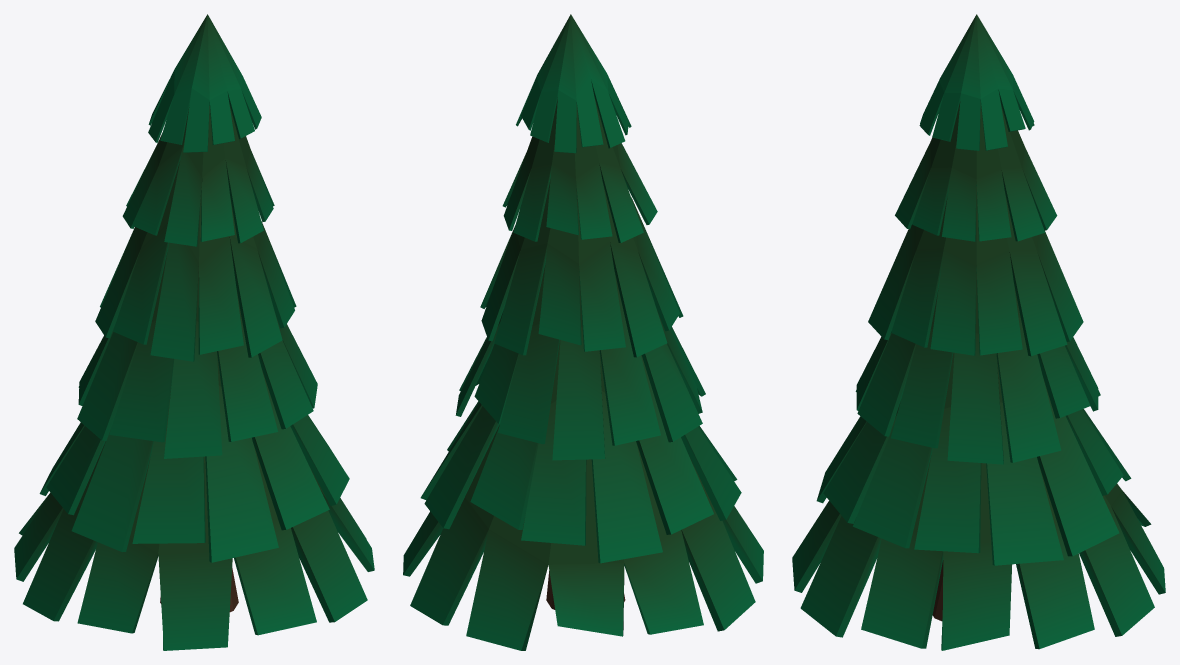
The model's file is tree_1_1.fbx.
3 views of the same model, side by side, from view 1: azimuth 30°, elevation 25°; view 2: azimuth 150°, elevation 25°; view 3: azimuth 270°, elevation 25° (orthographic). The views are drawn at different scales.
Visible parts, largest first — view 1: tree_1_1; view 2: tree_1_1; view 3: tree_1_1.
Part boxes in pixels (bbox=[...]): tree_1_1: bbox=[14, 14, 374, 650]; tree_1_1: bbox=[403, 14, 763, 650]; tree_1_1: bbox=[792, 14, 1165, 650].
Size of the model in its own units: 320 by 571 by 322.
